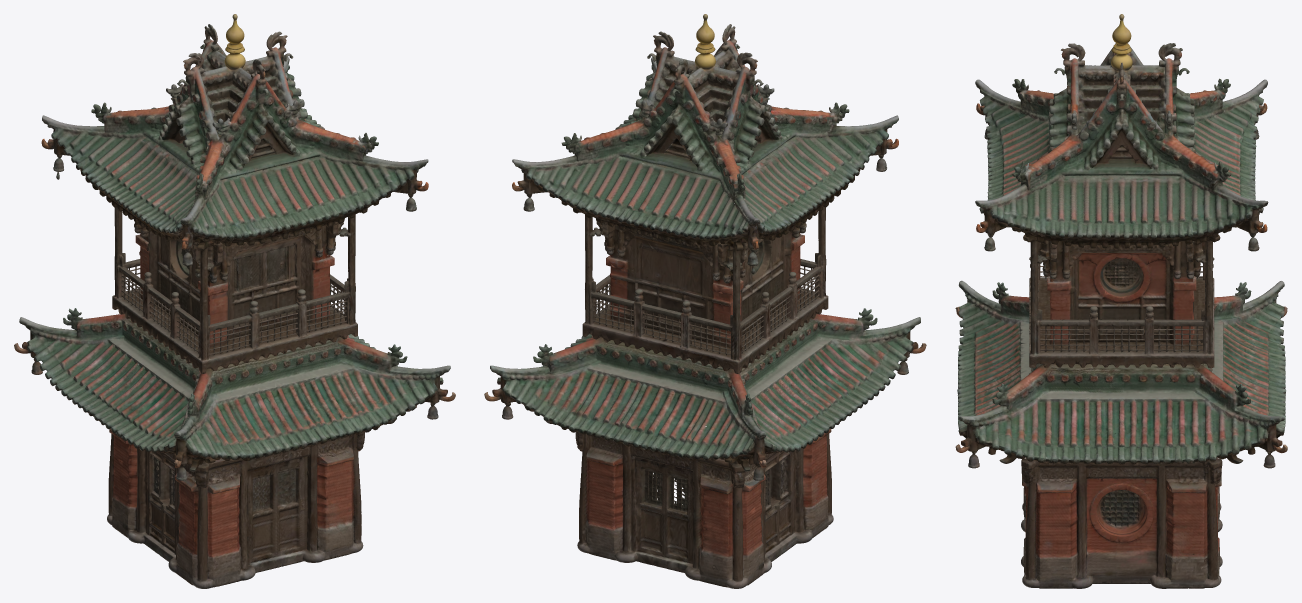
The model's file is pagoda.glb.
3 views of the same model, side by side, from view 1: azimuth 30°, elevation 25°; view 2: azimuth 150°, elevation 25°; view 3: azimuth 270°, elevation 25° (orthographic). The views are drawn at different scales.
Parts seen in each view (by area): view 1: tripo_node_3601a661-cbc1-4a79-94c9-d481e7d4595f; view 2: tripo_node_3601a661-cbc1-4a79-94c9-d481e7d4595f; view 3: tripo_node_3601a661-cbc1-4a79-94c9-d481e7d4595f.
Part boxes in pixels (<box>): tripo_node_3601a661-cbc1-4a79-94c9-d481e7d4595f: <box>14,14,455,588</box>; tripo_node_3601a661-cbc1-4a79-94c9-d481e7d4595f: <box>484,14,926,588</box>; tripo_node_3601a661-cbc1-4a79-94c9-d481e7d4595f: <box>955,14,1287,588</box>.
Bounding box in the file's own units: 0.5652 × 1 × 0.5649.
1 material, 1 textured.
